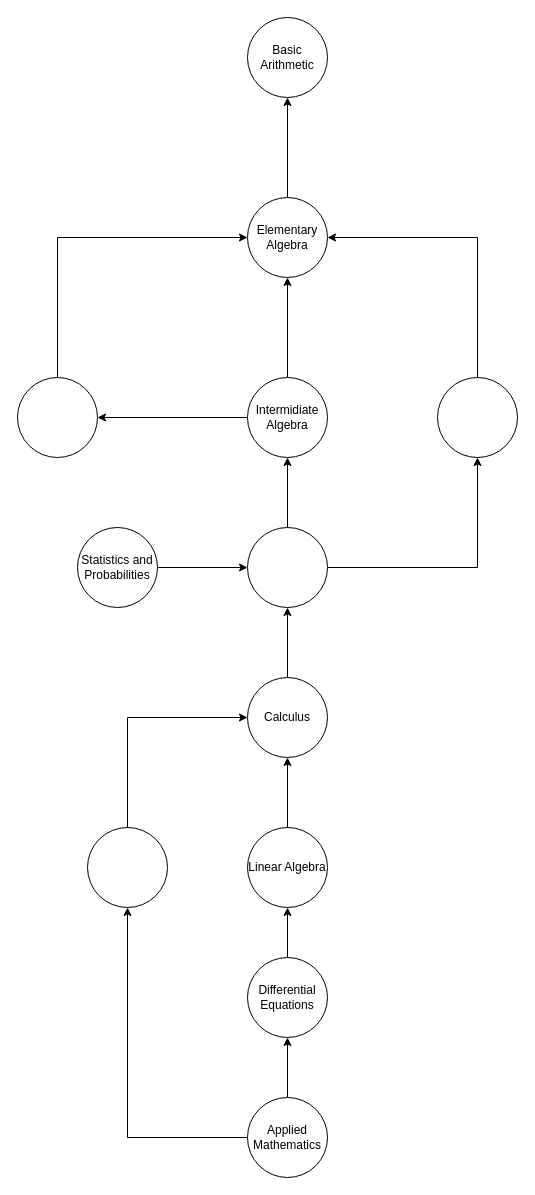
This 535x1195 diagram has some shape labels left out. The shapes that lost their labels are listed below. From the top down, each one's centre as x and y in pixels, then its label:
At (x=57, y=417): "Geometry".
At (x=477, y=417): "Trigonometry".
At (x=287, y=567): "Pre Calculus".
At (x=127, y=867): "Mathematical Analysis".
